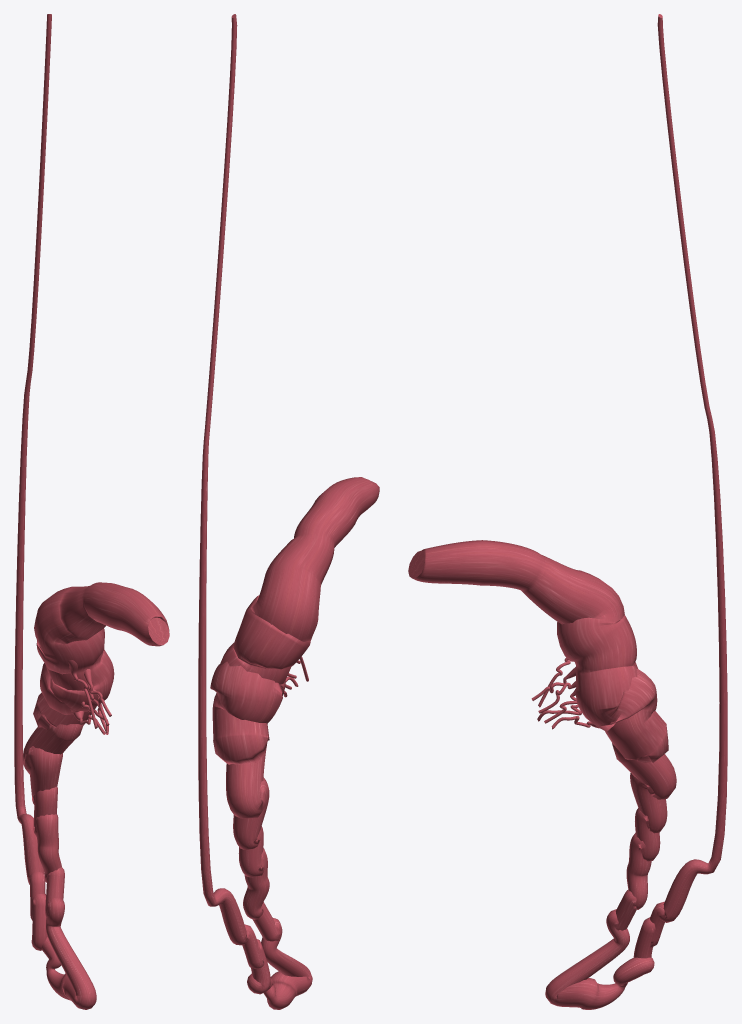
File: Epididirmis.glb
3 renders of one model, left to right at view 1: azimuth 30°, elevation 25°; view 2: azimuth 150°, elevation 25°; view 3: azimuth 270°, elevation 25°, orthographic. The views are drawn at different scales.
Visible parts, largest first — view 1: BezierCurve.003; view 2: BezierCurve.003; view 3: BezierCurve.003.
Boxes of the visible parts, <box> form: BezierCurve.003: <box>14,14,169,1009</box>; BezierCurve.003: <box>198,14,379,1009</box>; BezierCurve.003: <box>408,14,727,1009</box>.
Size of the model in its own units: 0.3734 by 4.24 by 1.23.
1 material, 1 textured.
